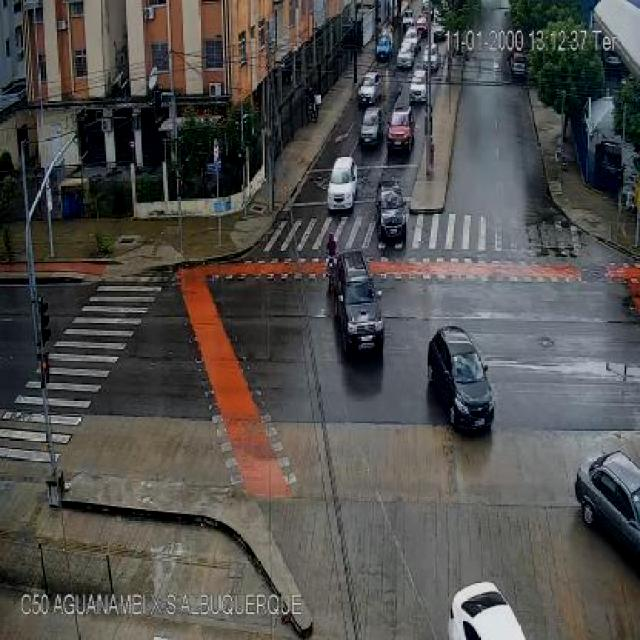Car: (575, 448, 640, 580), (426, 328, 494, 433), (328, 252, 383, 354), (447, 581, 532, 640), (376, 180, 408, 243), (326, 156, 358, 211), (386, 106, 416, 152), (358, 105, 384, 147), (396, 29, 419, 68), (357, 72, 382, 106), (409, 71, 429, 102), (420, 45, 440, 72), (510, 51, 528, 78), (376, 33, 392, 61), (432, 20, 447, 41), (416, 16, 428, 37), (402, 13, 414, 29), (425, 43, 438, 56), (403, 8, 413, 18)
